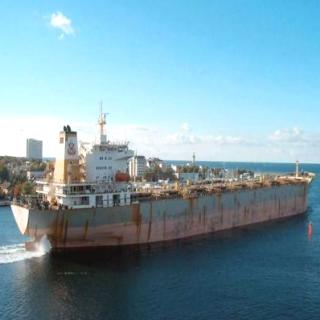Bulk Carrier: (7, 76, 310, 262)
